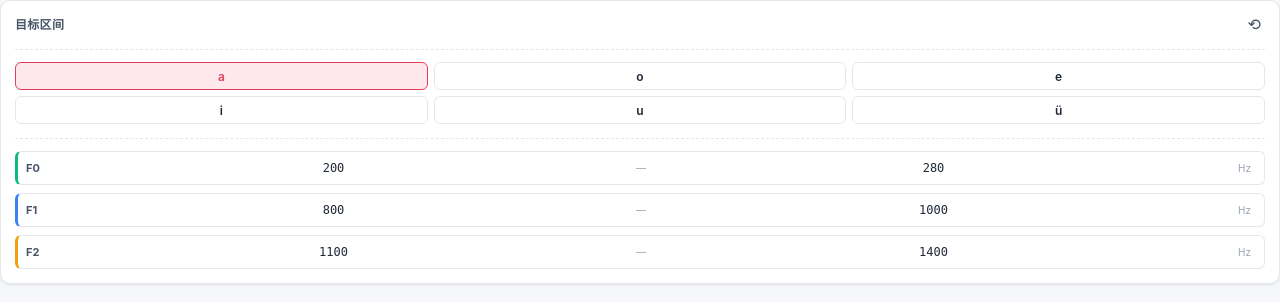
it: TargetPresetBar › reverts when low >= high
Replace the text in the number field named "F0下限" with "500" at (341, 168), box [52, 157, 630, 179]
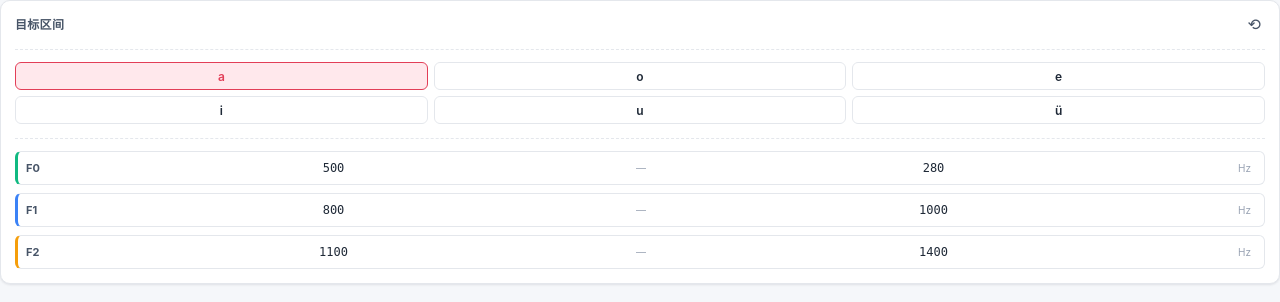
Leave the number field named "F0下限", box [52, 157, 630, 179]
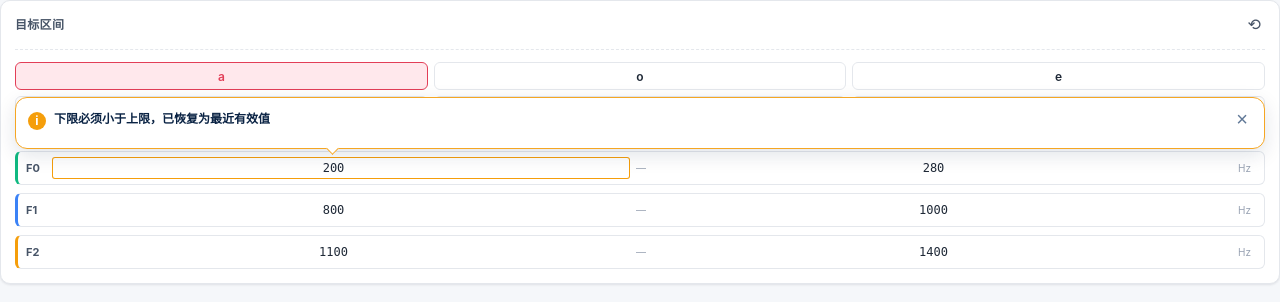
expect the number field named "F0下限" holds "200": met, box [52, 157, 630, 179]
